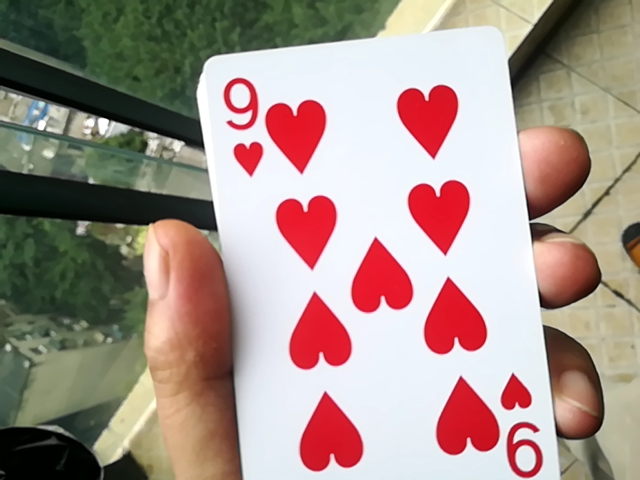hx 9: (190, 22, 555, 480)
